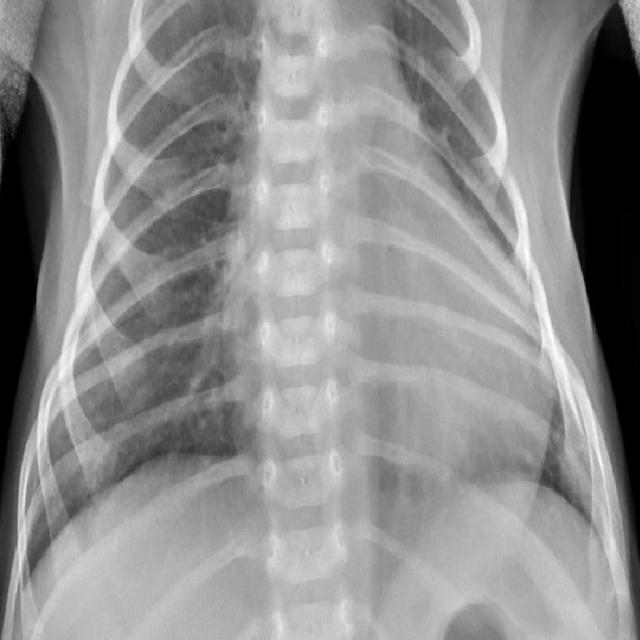low-pneumonia: (147, 227, 227, 450), (183, 17, 259, 197)
